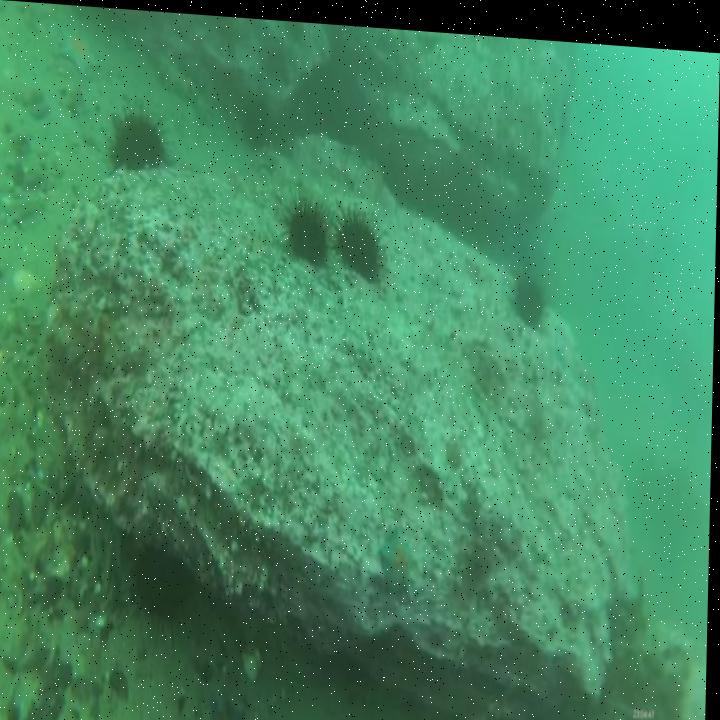echinus: (136, 547, 193, 614), (112, 108, 161, 169), (339, 212, 380, 271), (289, 200, 330, 257), (513, 267, 545, 316), (242, 85, 268, 145)
starfish: (383, 520, 418, 588), (58, 25, 103, 75)
